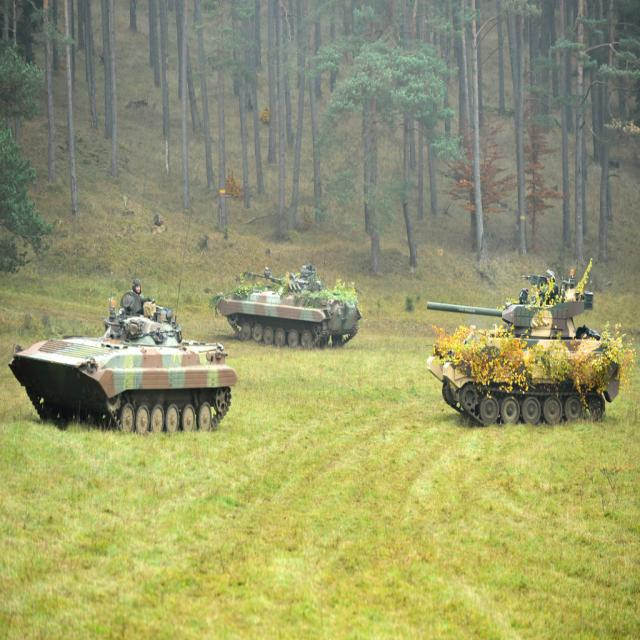tank: (7, 158, 237, 433), (424, 256, 622, 424), (214, 246, 360, 346)
